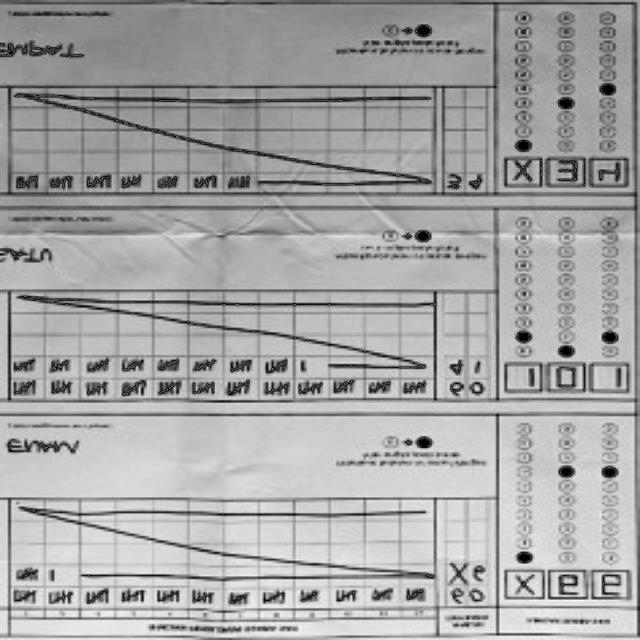Suara: (496, 158, 630, 193), (502, 569, 632, 605), (502, 365, 628, 397)
